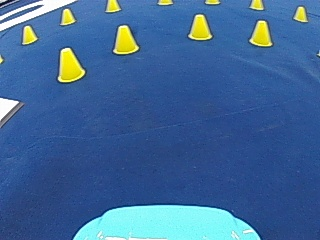cone: (56, 46, 85, 82), (112, 24, 139, 54), (248, 19, 273, 46), (188, 13, 212, 40), (21, 24, 37, 44), (60, 8, 75, 25), (292, 5, 307, 22), (105, 0, 120, 12), (249, 0, 263, 10)
